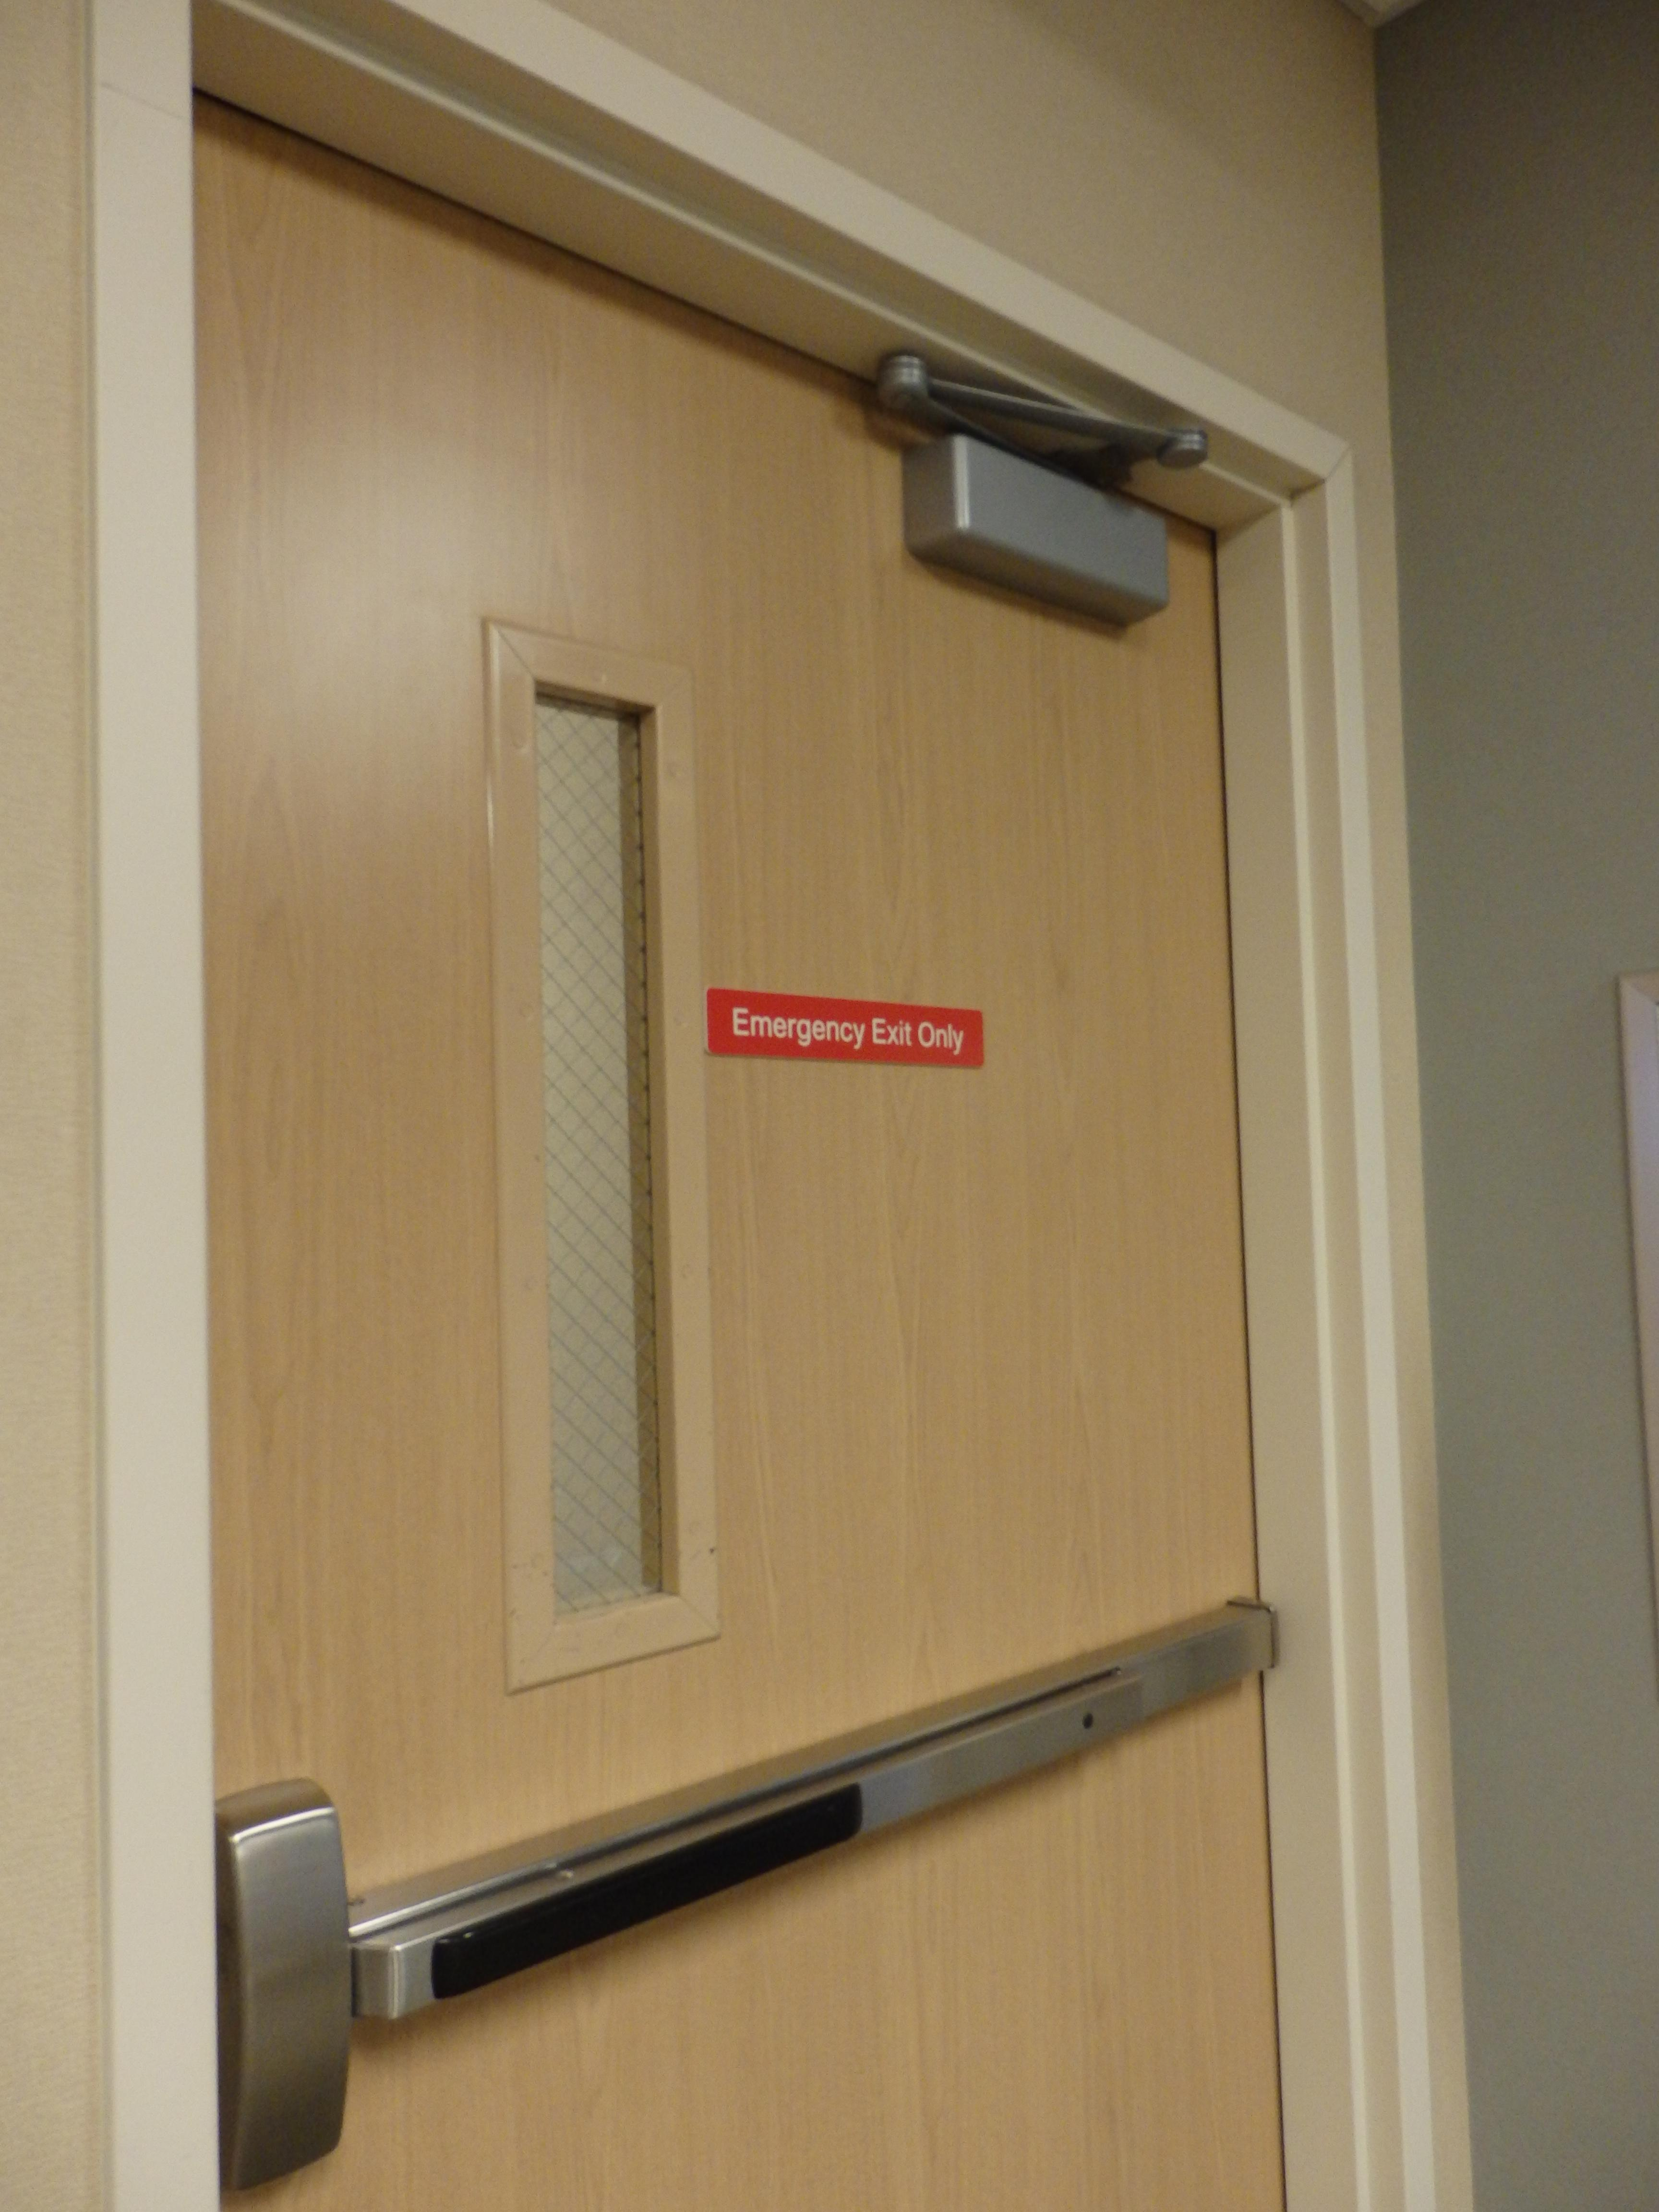door: (176, 38, 1297, 2212)
